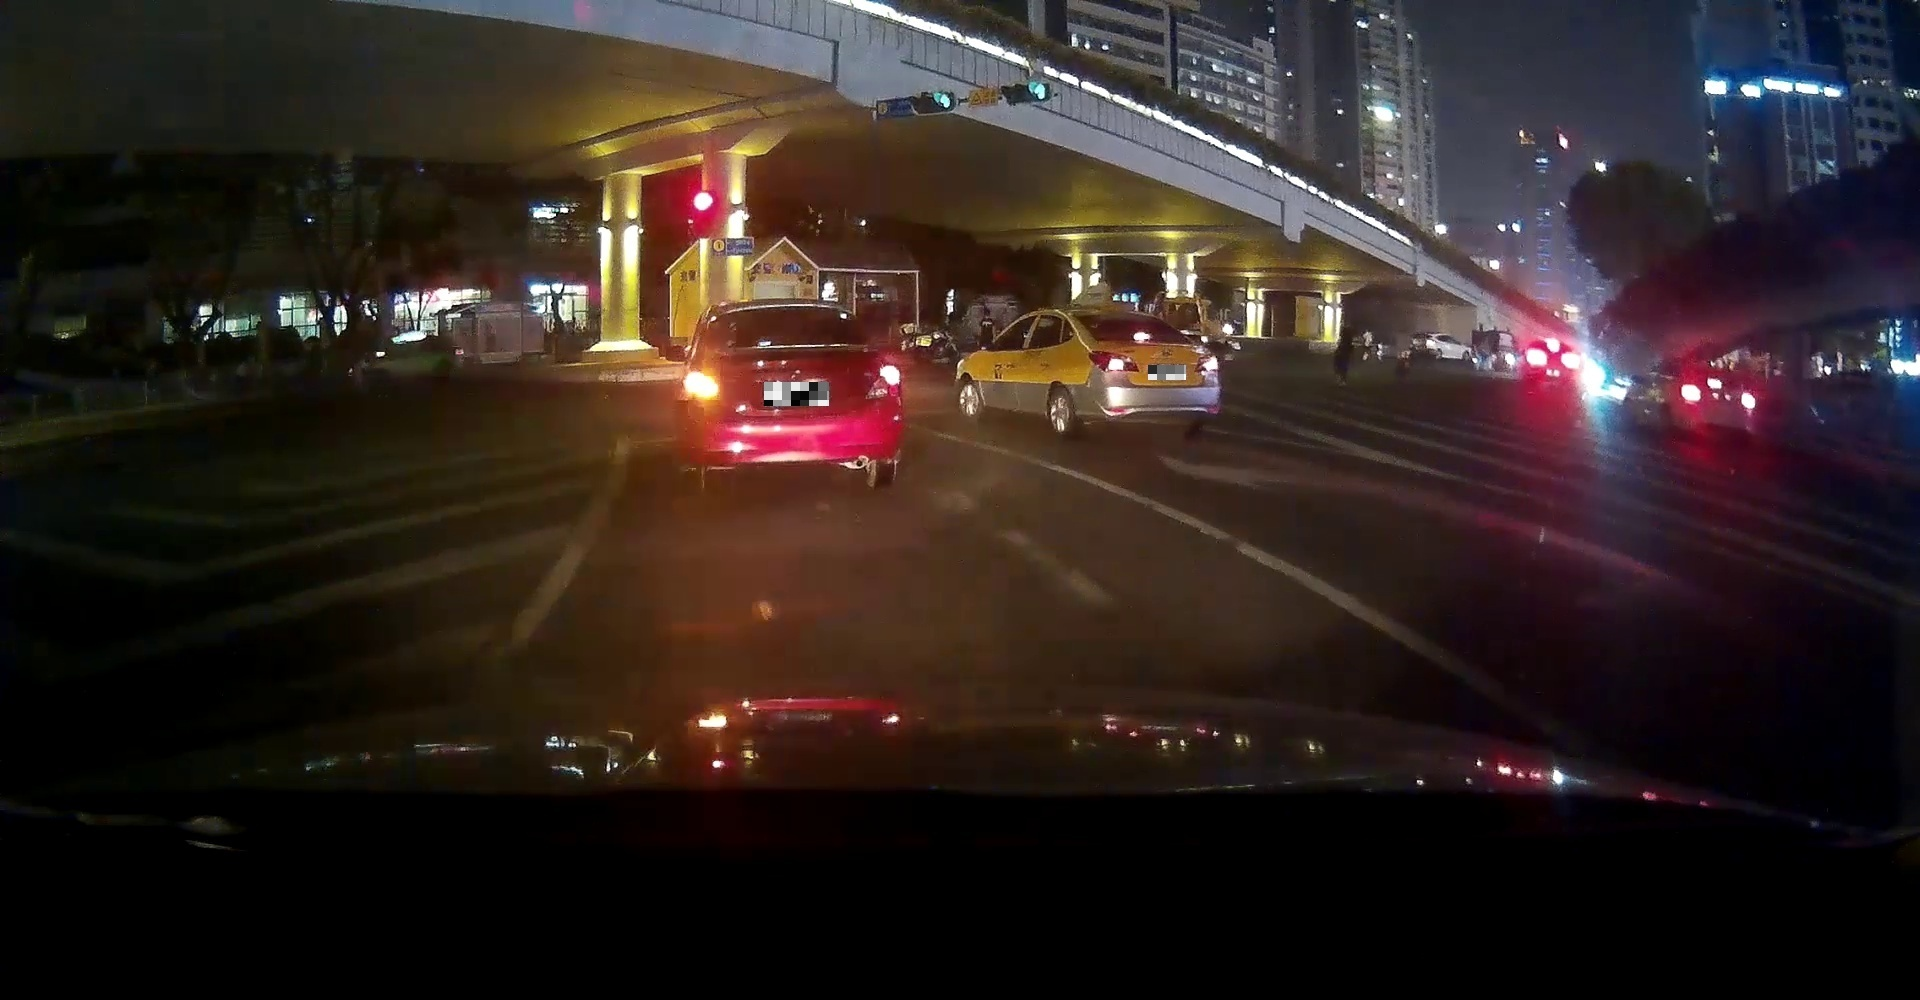L_light: (684, 371, 728, 402), (1088, 350, 1139, 372)
R_light: (863, 364, 902, 398), (1195, 354, 1220, 373)
T_light: (775, 305, 810, 313), (1131, 332, 1154, 341)
night-brake: (1067, 308, 1222, 435)
night-left: (677, 298, 903, 490)
plate_1: (764, 382, 829, 406)
plate_2: (1148, 365, 1186, 379)
